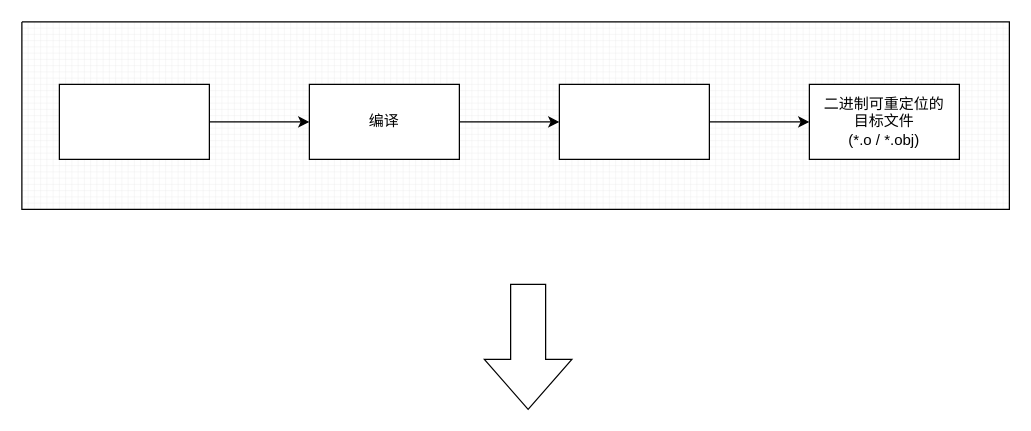
Image size: 1031x431. Some labels were removed from this diagram. Each missing label, with the centre of its shape:
"汇编" belongs at point (633, 121).
"预编译" belongs at point (133, 121).
